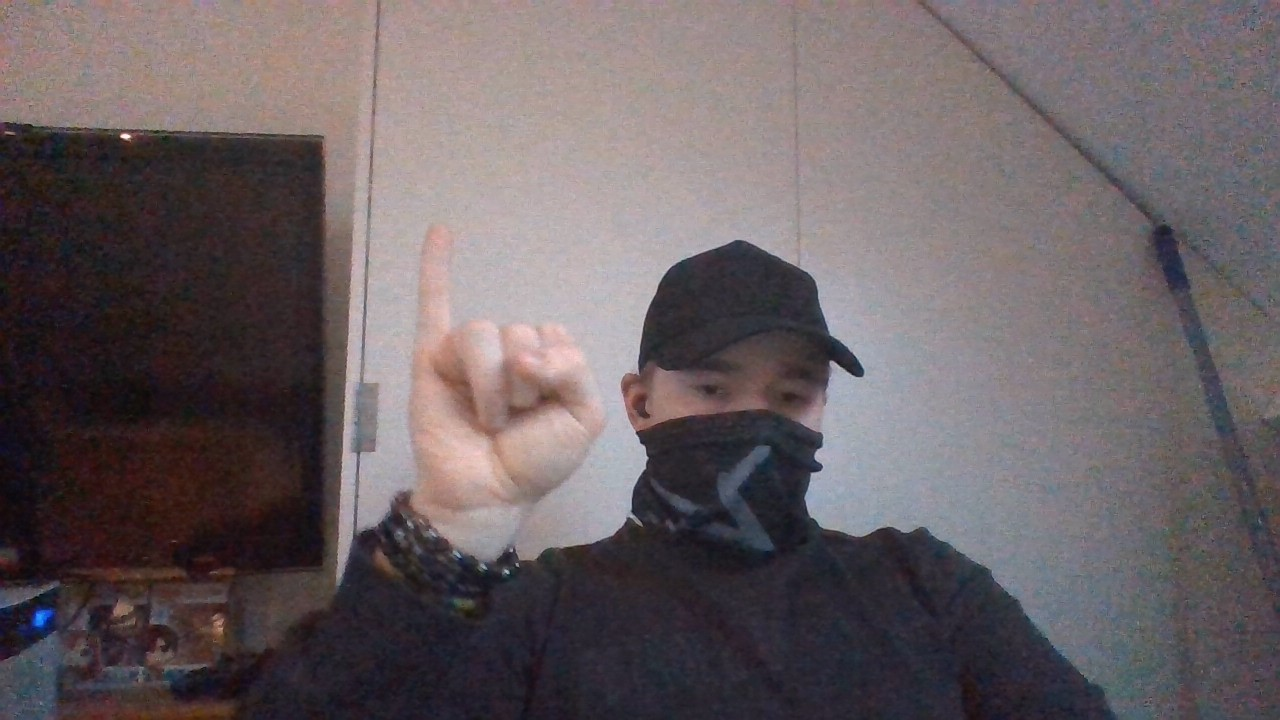I" Sign language: (410, 222, 611, 511)
